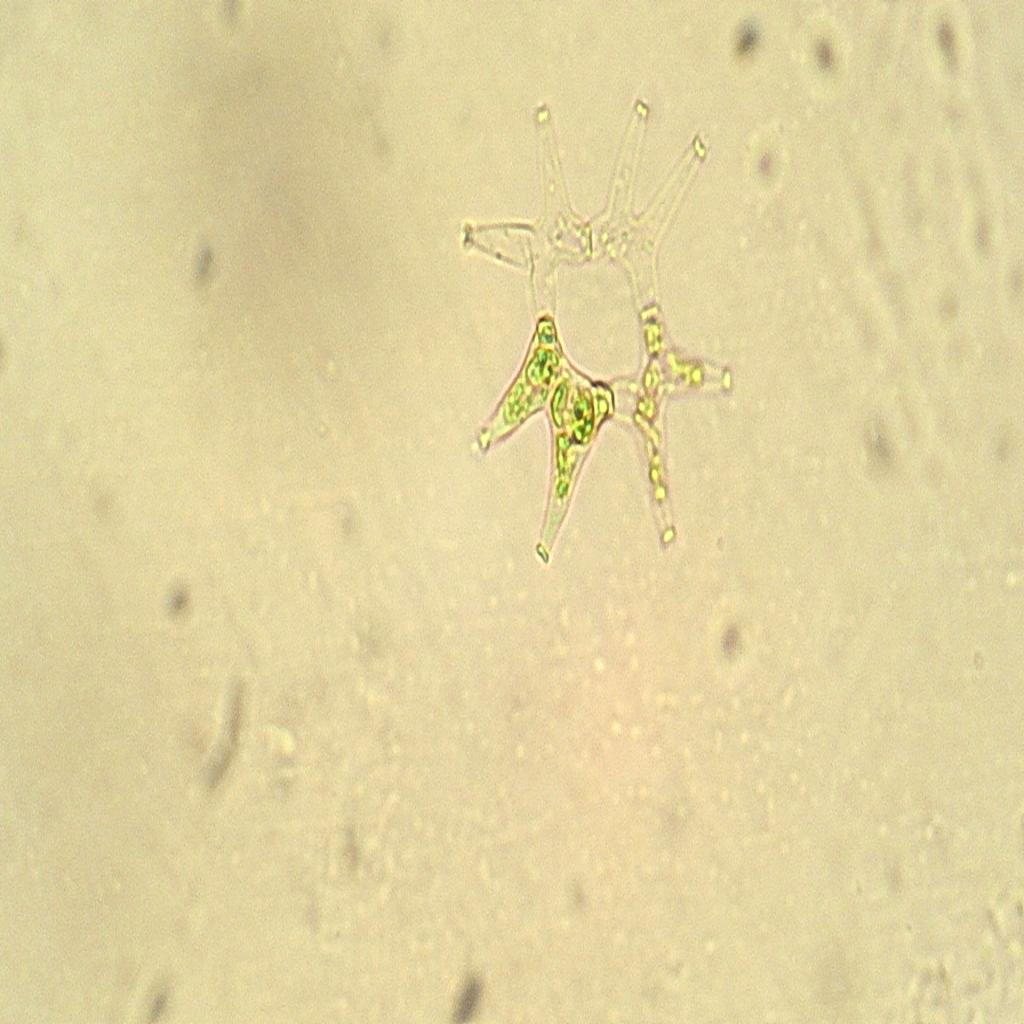Pediastrum_75TH: (450, 75, 744, 598)
